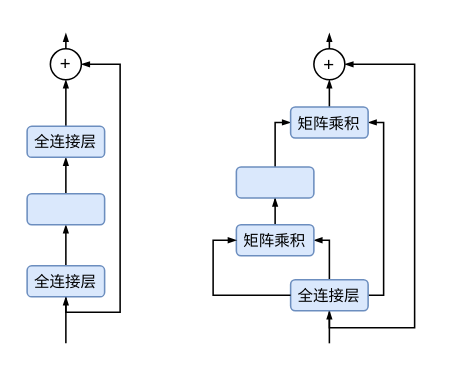
Some shapes in this 450 by 378 pixel diagram are drawn without their labels. The centre of each missing label's shape, as x and y in pixels:
"(DW)Conv" belongs at point 65,208.
"Softmax" belongs at point 274,181.
